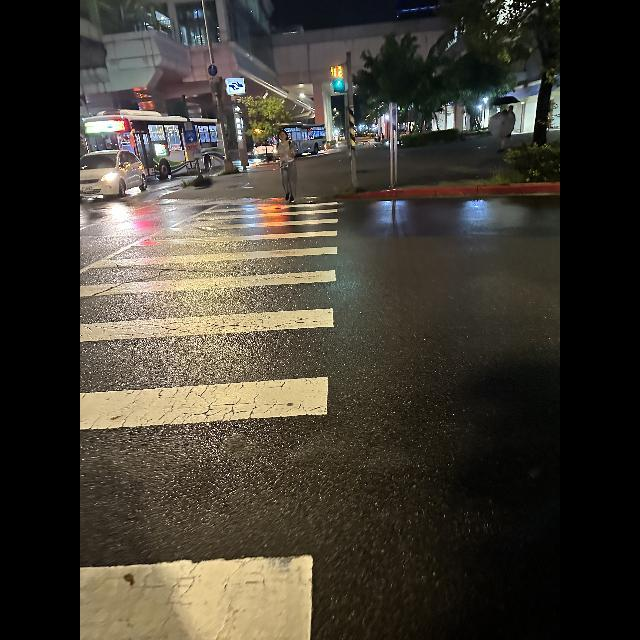sidewalk: (80, 196, 340, 640)
